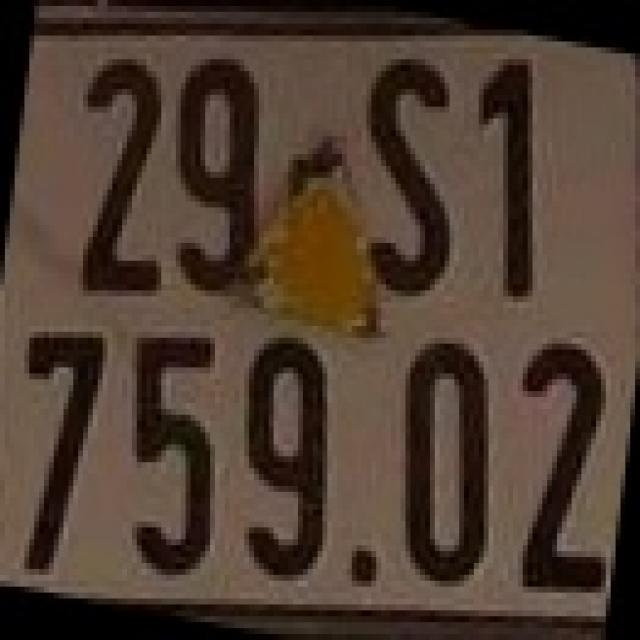0: (396, 332, 498, 587)
1: (469, 48, 557, 302)
2: (518, 332, 616, 598), (73, 48, 166, 296)
5: (123, 326, 220, 581)
7: (19, 320, 108, 575)
9: (171, 48, 269, 296), (235, 332, 332, 581)
S: (352, 48, 459, 302)
